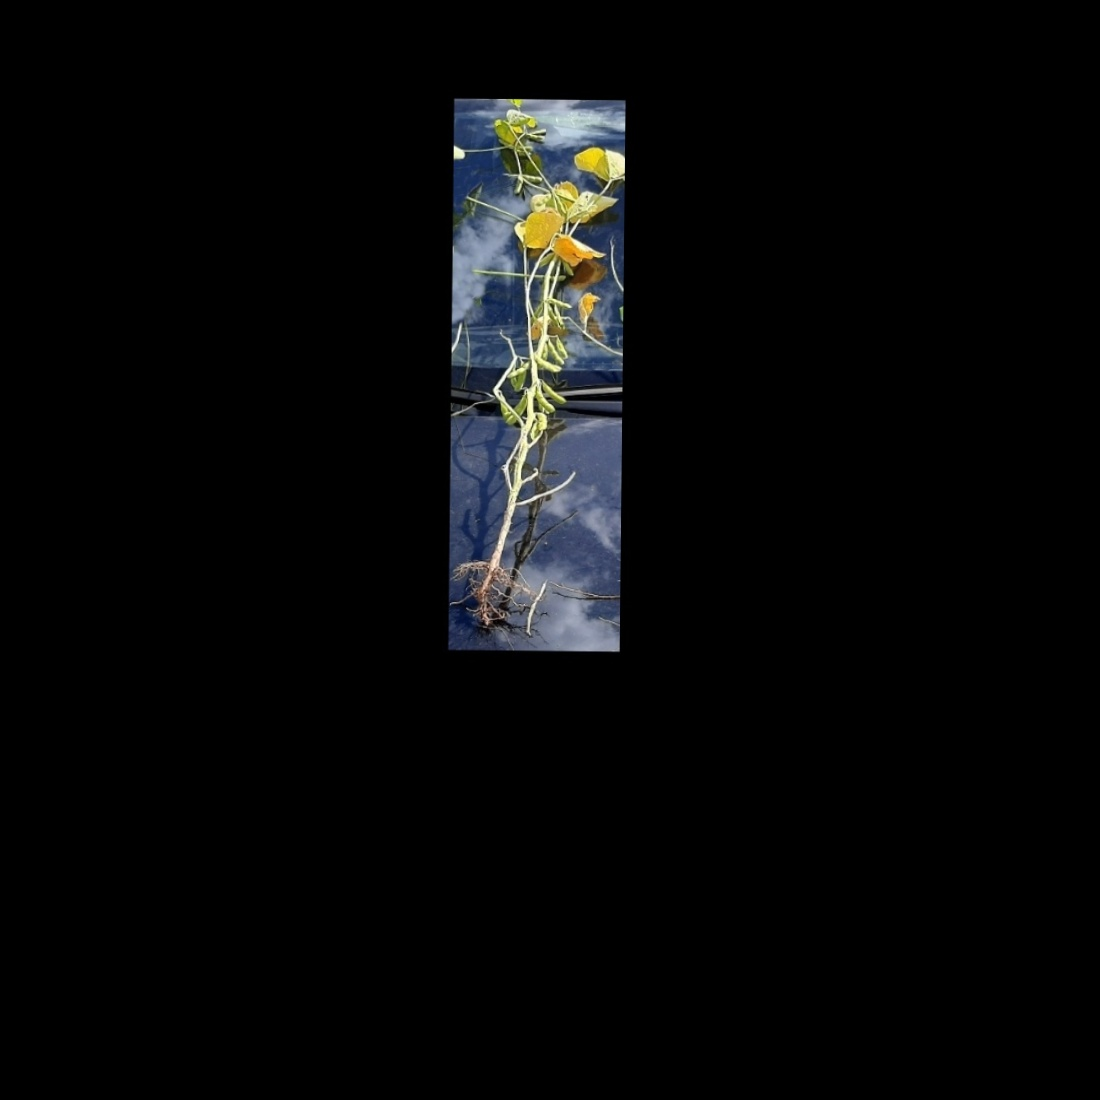pod: (503, 393, 529, 430), (532, 383, 559, 418), (537, 382, 569, 408), (542, 337, 568, 369), (534, 386, 559, 414), (503, 358, 532, 382), (531, 355, 568, 373), (511, 364, 528, 398), (546, 293, 575, 309)
soy: (457, 98, 611, 629)
